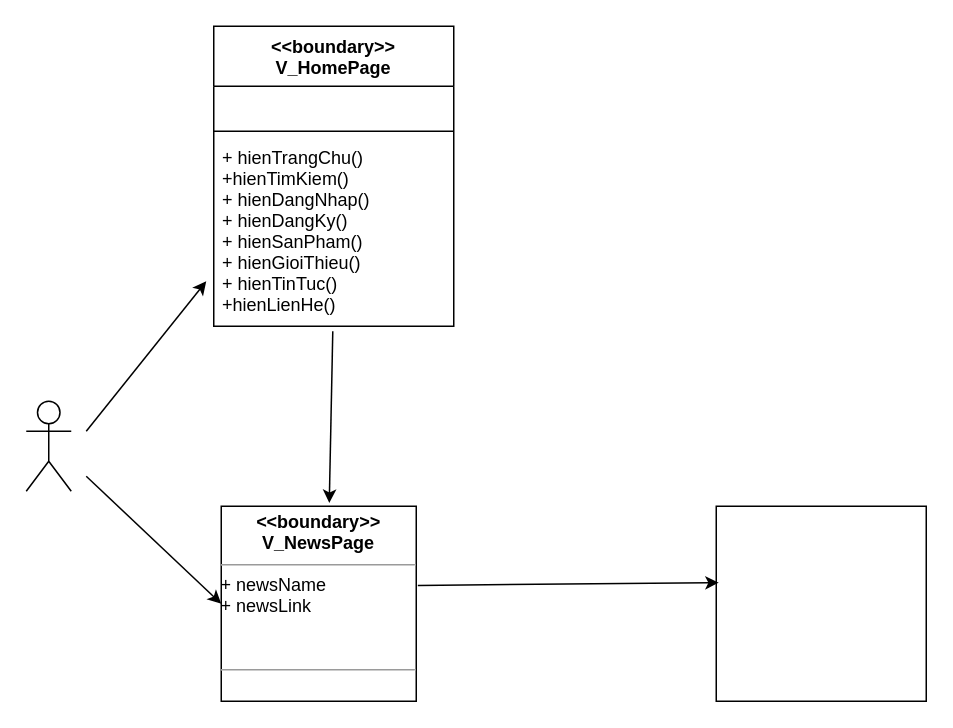
Some shapes in this 953 by 728 pixel diagram are drawn without their labels. The shapes that lost their labels are listed below. From the top down, each one's box as (x1, y1, x2, y2) in pixels, then its label:
(25, 400, 71, 491): User
(715, 505, 926, 701): < <control >> C_NewsPage + openNewsPage()
